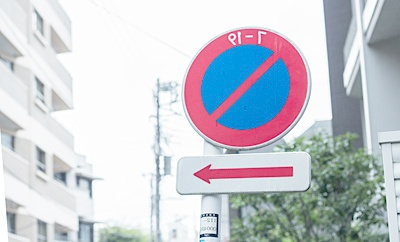Prohibition_sign: (165, 21, 337, 171)
